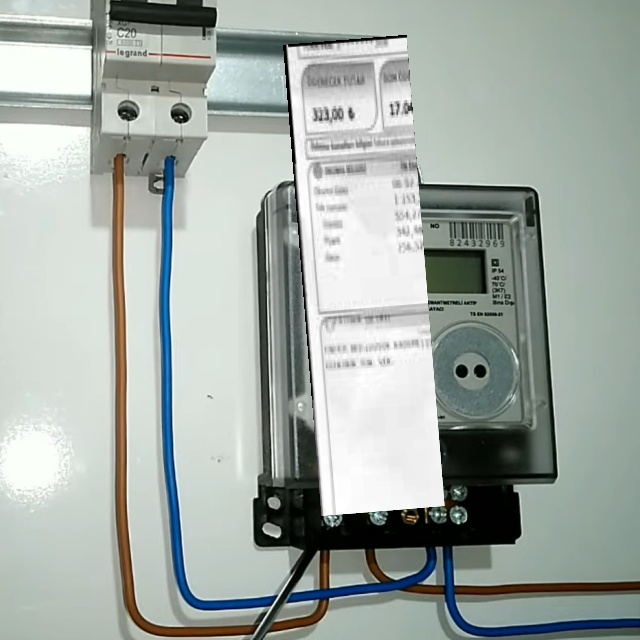electricity-bill: (283, 35, 445, 516)
